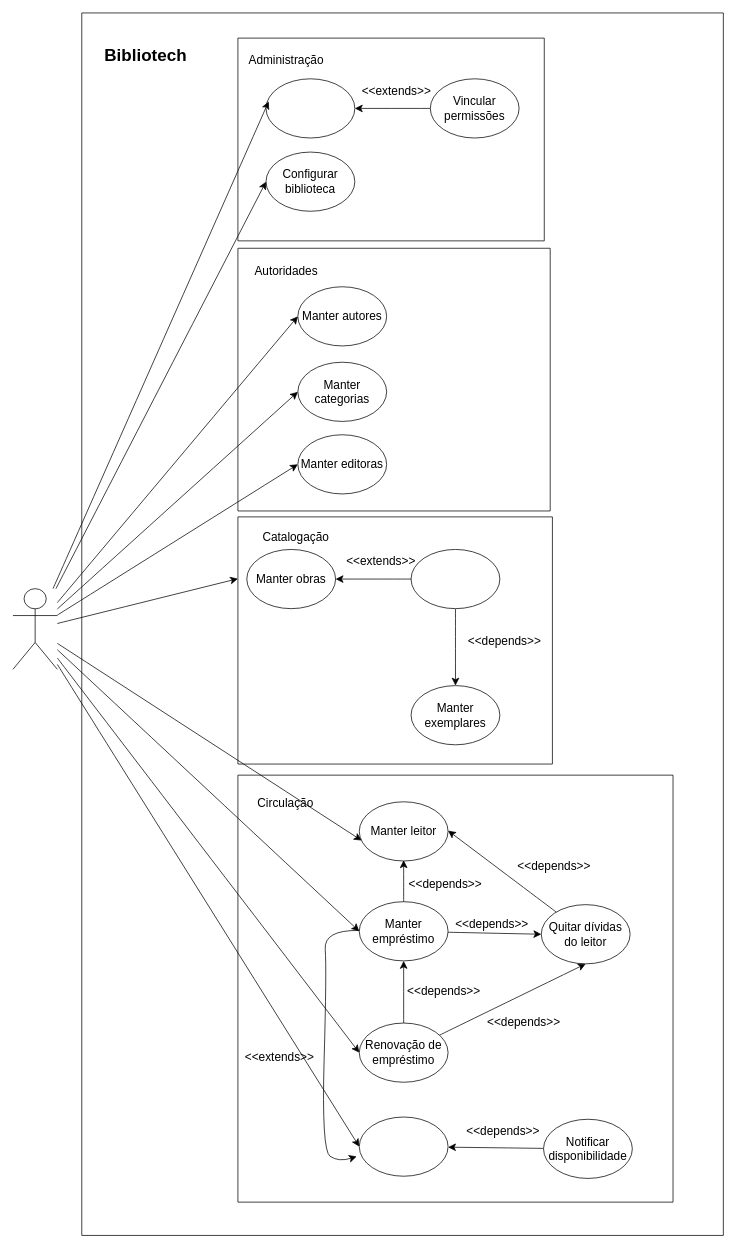
This 736x1248 diagram has some shape labels left out. The shapes that lost their labels are listed below. From the top down, each one's box as (x1, y1, x2, y2) in pixels, then its label:
(265, 78, 355, 138): Manter usuário
(410, 549, 500, 609): Vincular exemplares
(12, 588, 57, 669): Usuário
(359, 1116, 448, 1176): Manter reservas
